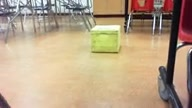cube: (90, 25, 120, 53)
